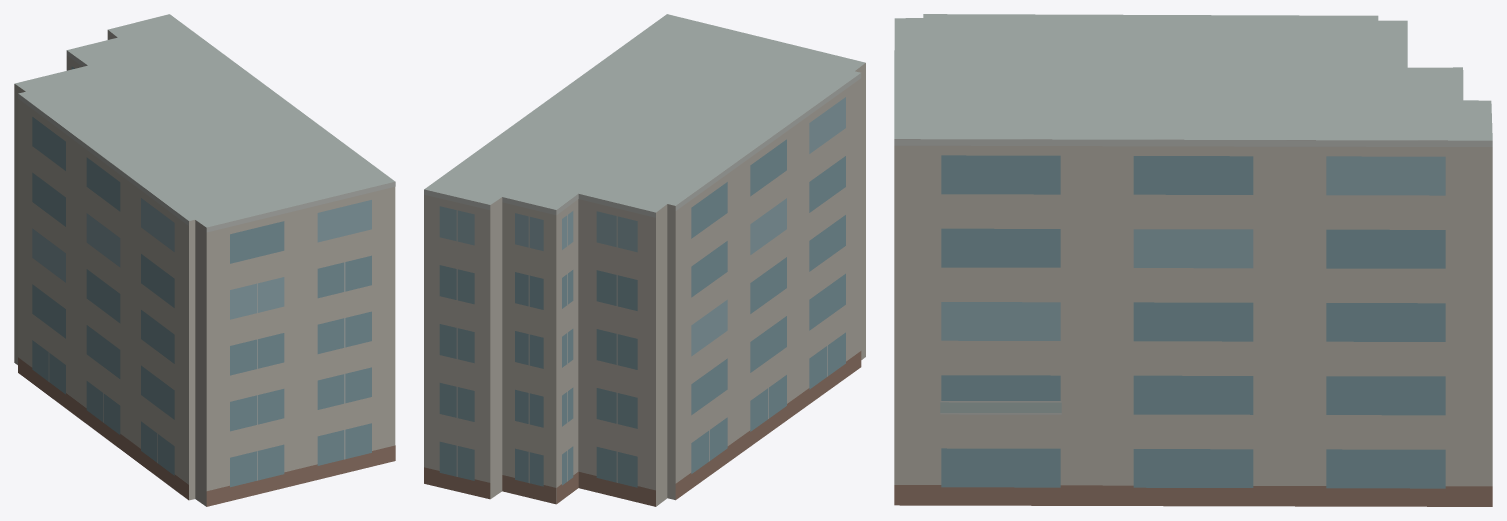
File: survey-upis-32957900.glb
3 views of the same model, side by side, from view 1: azimuth 30°, elevation 25°; view 2: azimuth 150°, elevation 25°; view 3: azimuth 270°, elevation 25° (orthographic). The views are drawn at different scales.
Visible parts, largest first — view 1: survey-upis-32957900.tmp; view 2: survey-upis-32957900.tmp; view 3: survey-upis-32957900.tmp.
Boxes of the visible parts, left/top/right/bottom form: survey-upis-32957900.tmp: left=14, top=14, right=395, bottom=506; survey-upis-32957900.tmp: left=424, top=14, right=865, bottom=506; survey-upis-32957900.tmp: left=894, top=14, right=1492, bottom=506.
Size of the model in its own units: 10.09 by 13.6 by 20.15.
